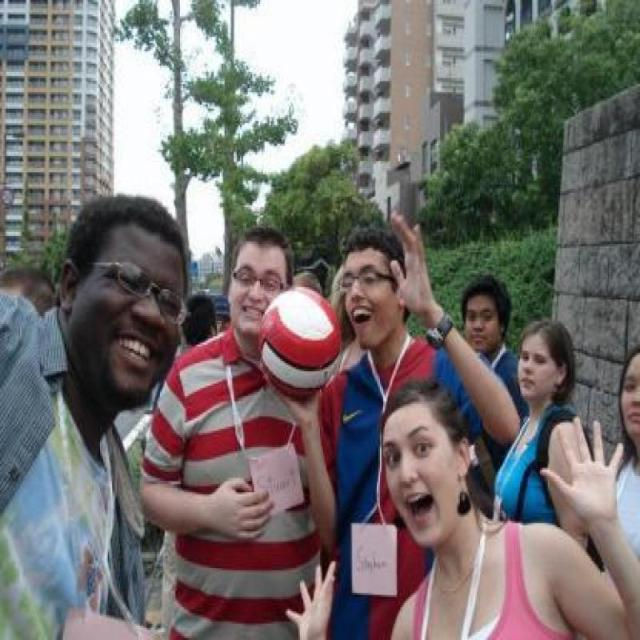volleyball: (255, 287, 343, 400)
